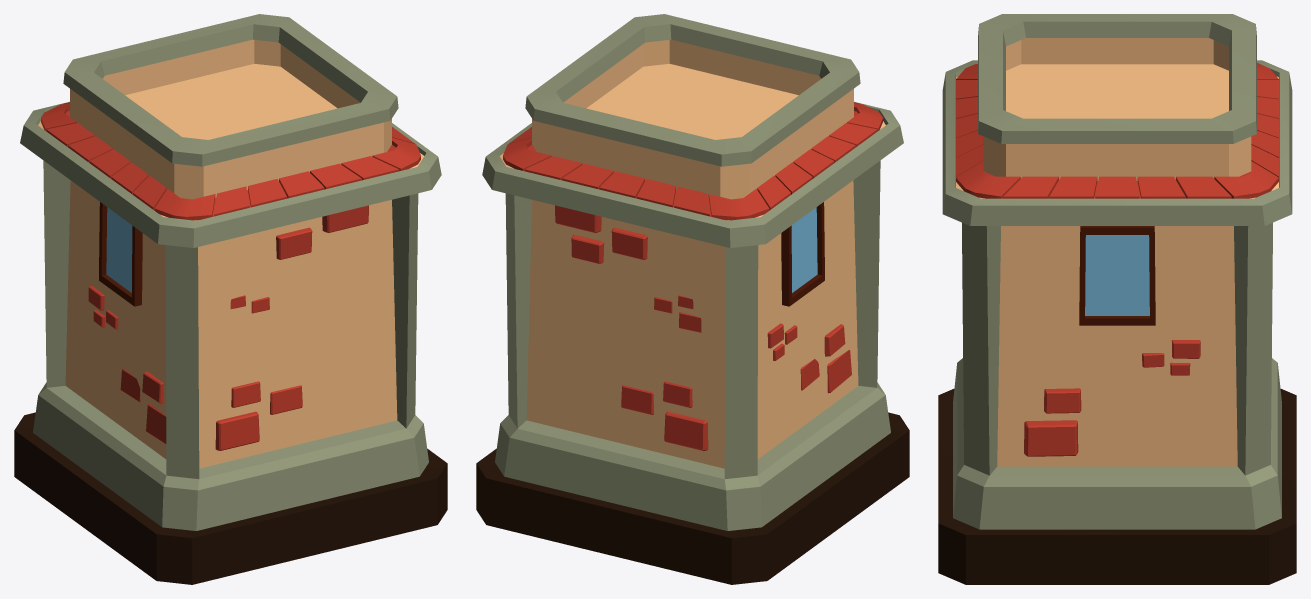
The model's file is nisanc_2_seviye.fbx.
The picture shows the model from 3 angles, left to right: view 1: azimuth 30°, elevation 25°; view 2: azimuth 150°, elevation 25°; view 3: azimuth 270°, elevation 25°; orthographic projection. The views are drawn at different scales.
Visible parts, largest first — view 1: Cube.002; view 2: Cube.002; view 3: Cube.002.
Boxes of the visible parts, left/top/right/bottom form: Cube.002: left=14, top=14, right=447, bottom=584; Cube.002: left=476, top=14, right=909, bottom=584; Cube.002: left=938, top=14, right=1296, bottom=584.
Size of the model in its own units: 329 by 445 by 329.
